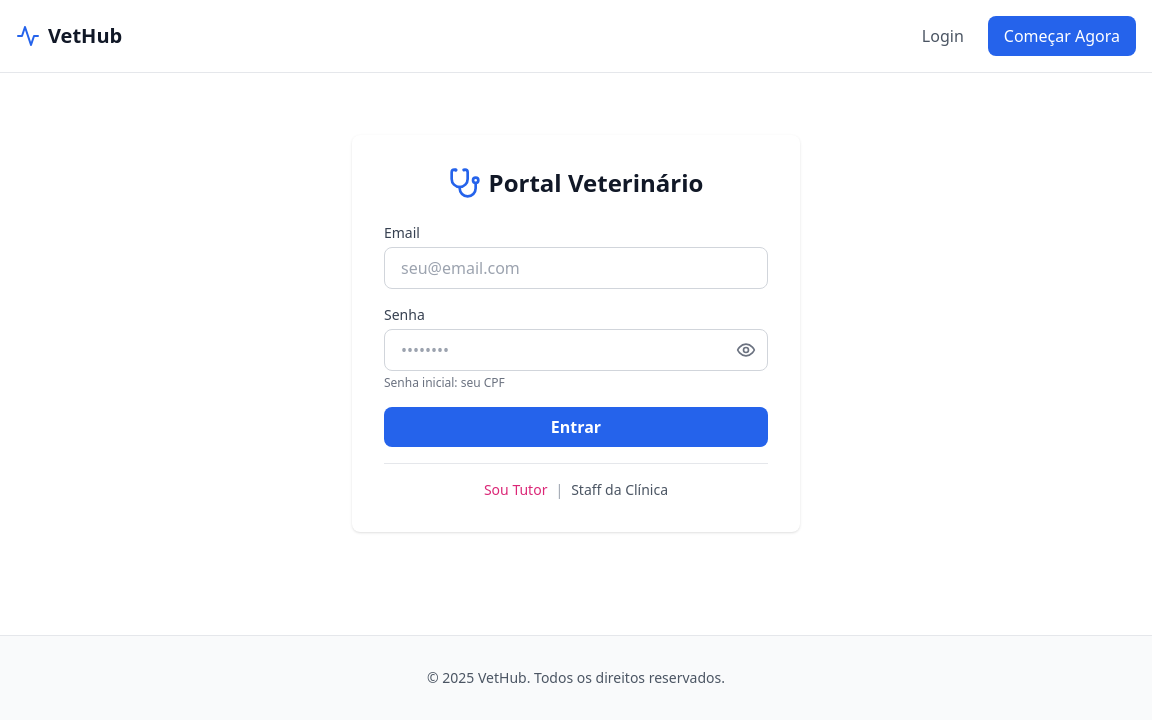
Test: VeterinarianLogin Page › deve exibir erro se o usuário não for veterinário
Type "vet@test.com" into the field with placeholder "seu@email.com" at (576,268), box [384,246,768,288]
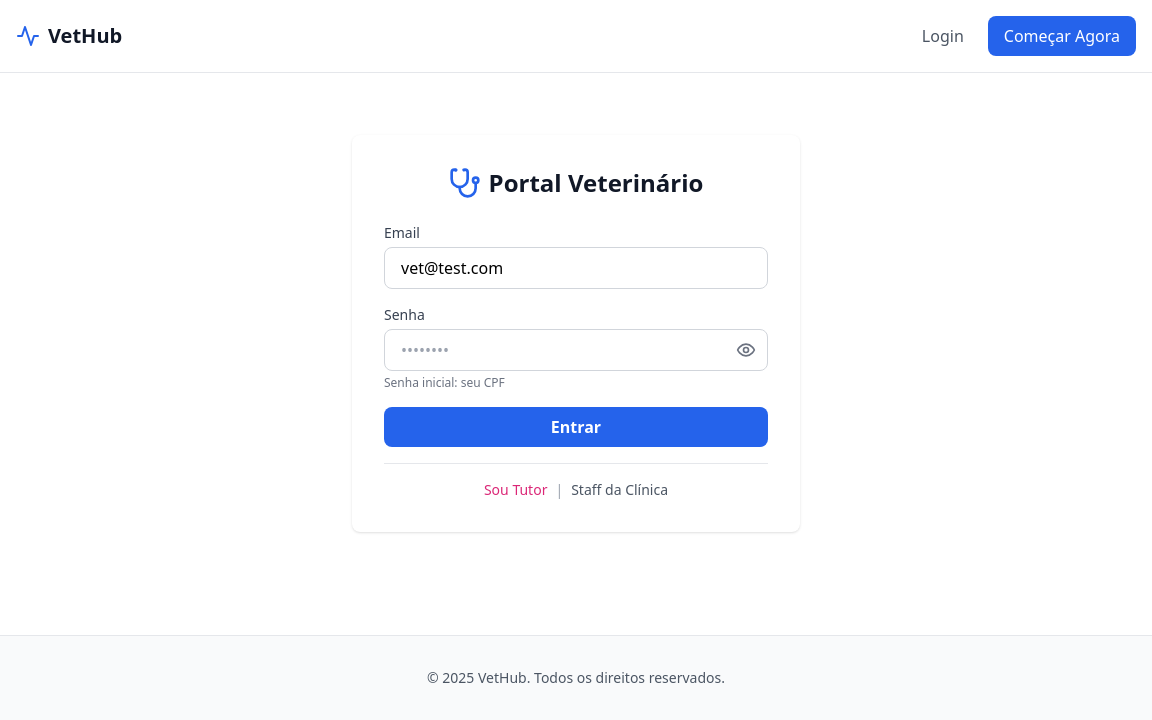
Type "123456" into the password field with placeholder "••••••••" at (576,350), box [384,328,768,370]
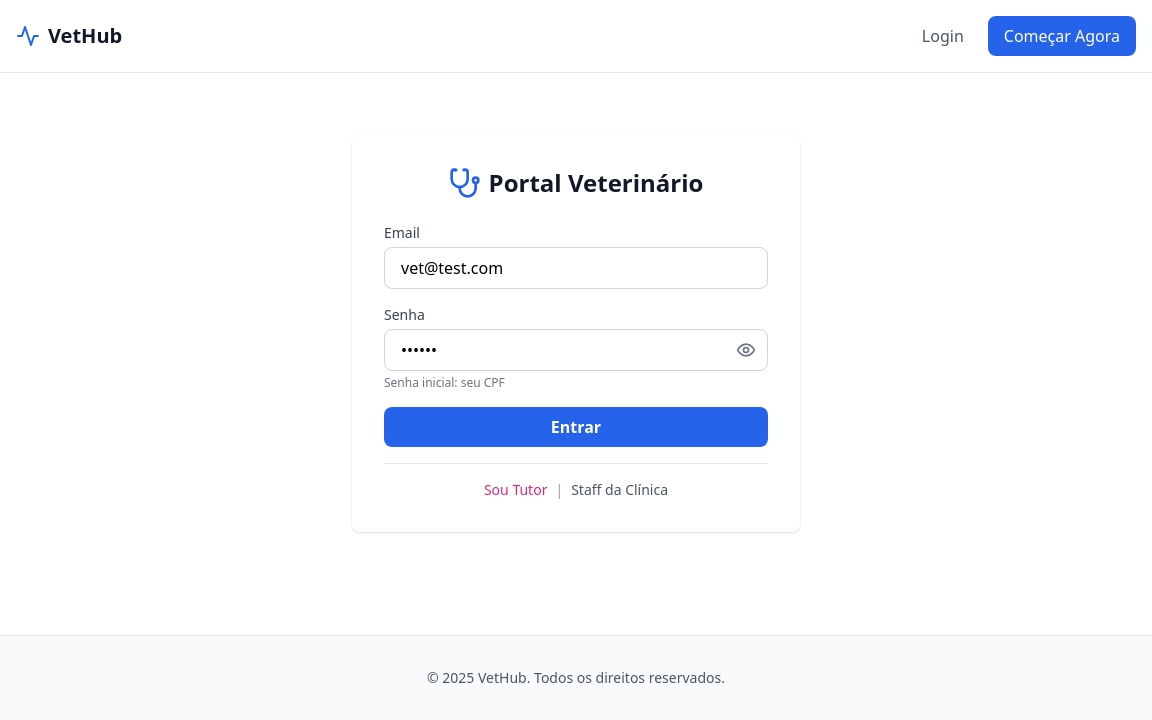
Click the button "Entrar" at (576,426), box [384,406,768,446]
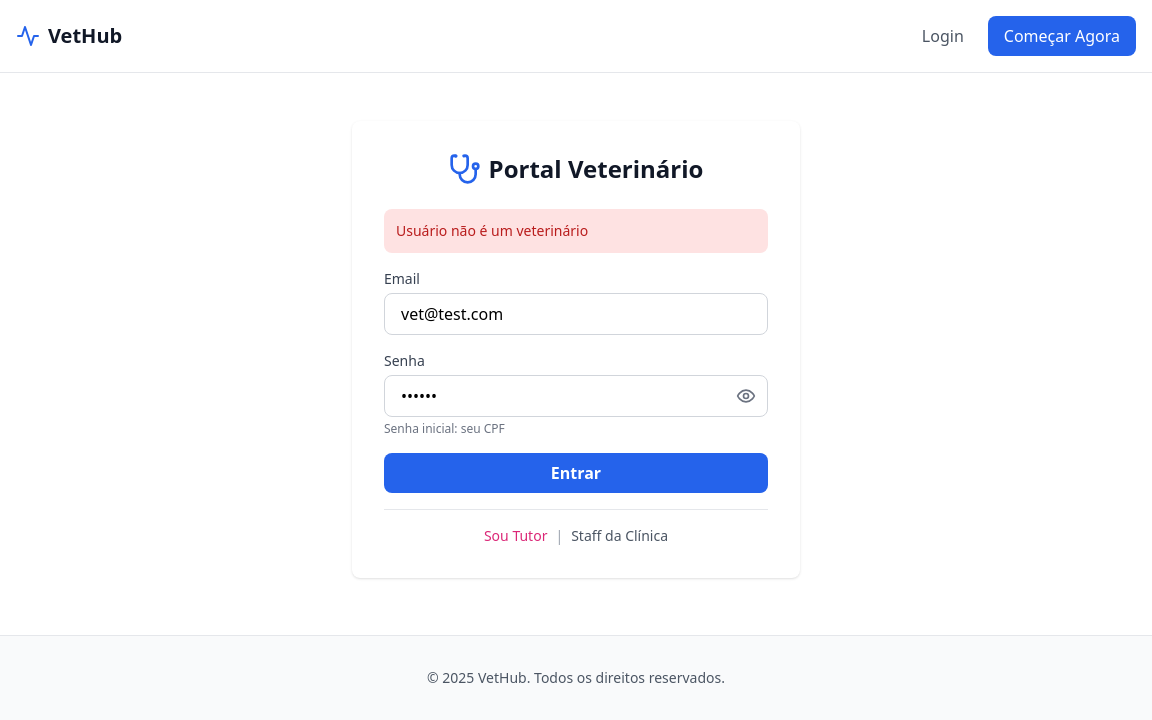
Check: the text "Usuário não é um veterinário" is shown, box [384,209,768,253]
